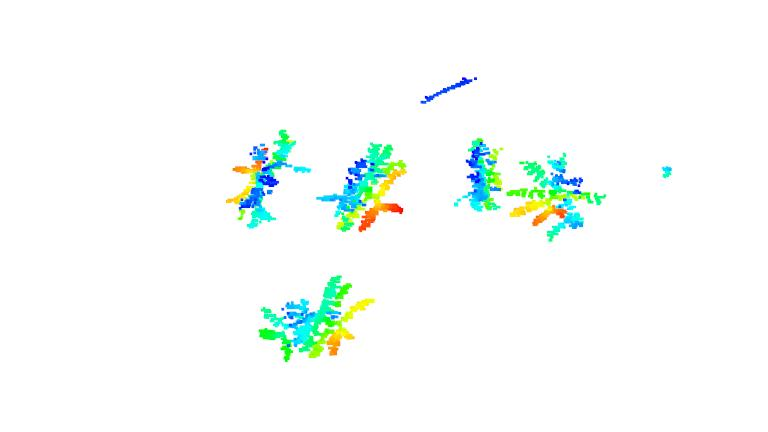chickpea: (256, 274, 373, 362), (221, 129, 312, 230), (514, 152, 607, 244), (324, 141, 410, 233), (450, 135, 509, 217)
